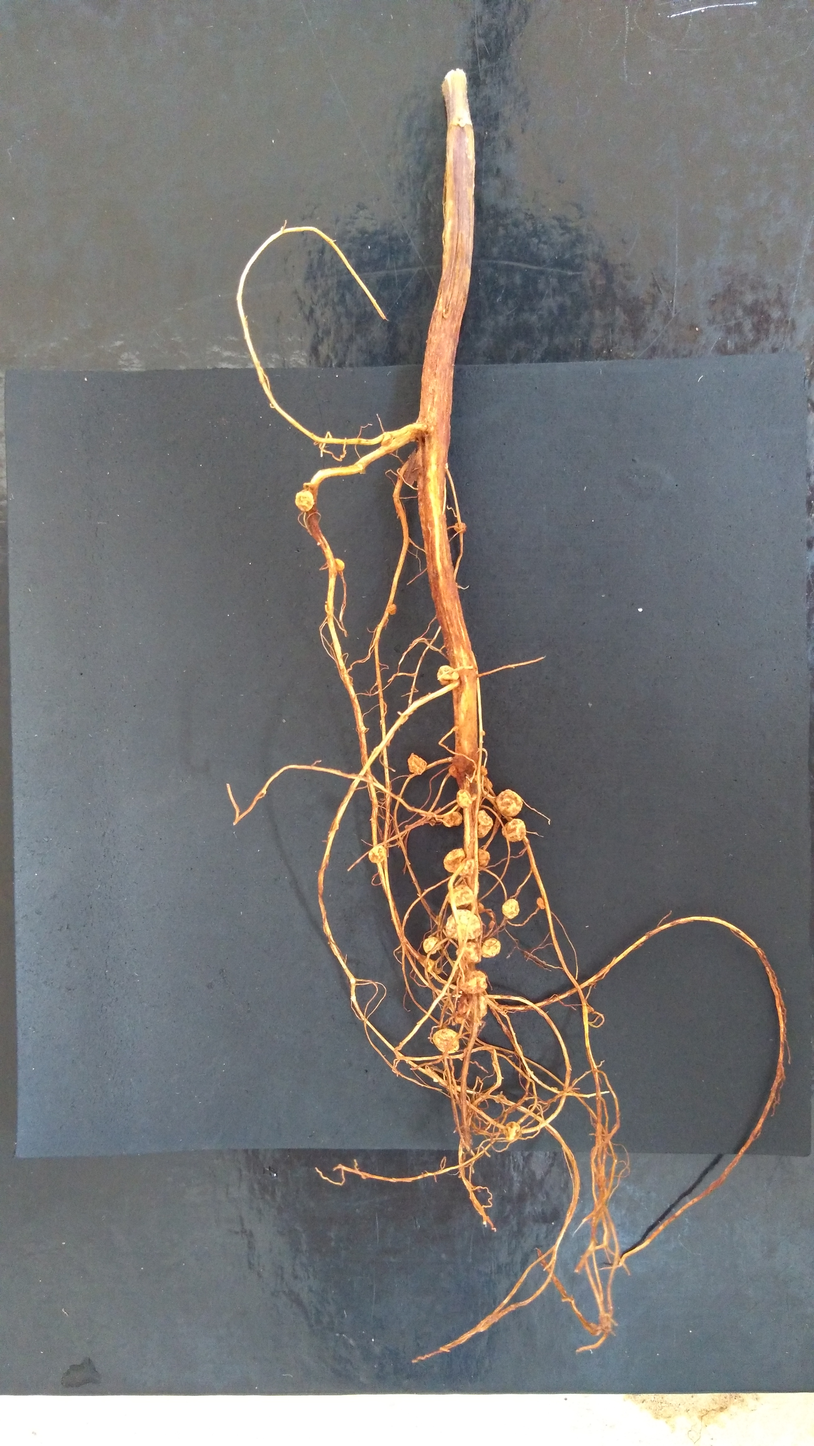nodule: (445, 909, 481, 940), (457, 991, 487, 1021), (496, 789, 523, 817), (458, 969, 488, 994), (445, 884, 474, 909), (455, 940, 483, 964), (433, 1028, 459, 1053), (443, 847, 465, 873), (502, 818, 526, 841), (476, 810, 493, 838), (479, 937, 501, 958), (295, 489, 315, 512), (437, 665, 460, 685), (407, 752, 427, 775), (423, 936, 443, 955), (502, 898, 520, 919), (441, 811, 463, 827), (368, 844, 386, 863), (503, 1121, 520, 1141), (473, 773, 493, 789), (457, 789, 473, 808), (460, 859, 476, 878), (476, 848, 490, 868), (425, 958, 437, 974), (381, 433, 393, 448), (454, 521, 467, 534), (454, 1011, 466, 1024), (334, 558, 345, 572), (448, 765, 458, 778), (387, 603, 397, 615), (475, 901, 484, 913), (479, 765, 488, 776), (537, 897, 545, 909), (428, 818, 436, 826), (488, 921, 495, 929), (447, 756, 454, 762), (404, 824, 409, 829), (481, 730, 485, 736), (451, 1021, 456, 1025)
